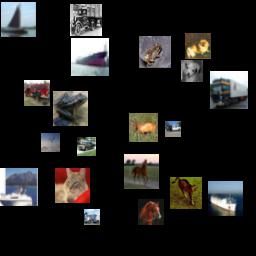airplane: (41, 133, 60, 152)
automobile: (77, 137, 96, 156)
cat: (55, 168, 90, 203), (170, 177, 202, 209)
deer: (129, 113, 158, 142)
dog: (185, 33, 211, 59), (181, 60, 203, 82)
frog: (53, 91, 88, 126), (139, 36, 171, 68)
ship: (0, 168, 38, 206), (71, 38, 109, 76), (208, 181, 243, 216), (1, 2, 36, 37)
truck: (210, 71, 248, 109), (70, 4, 102, 36), (24, 80, 50, 106), (84, 209, 100, 225), (165, 121, 181, 137)
